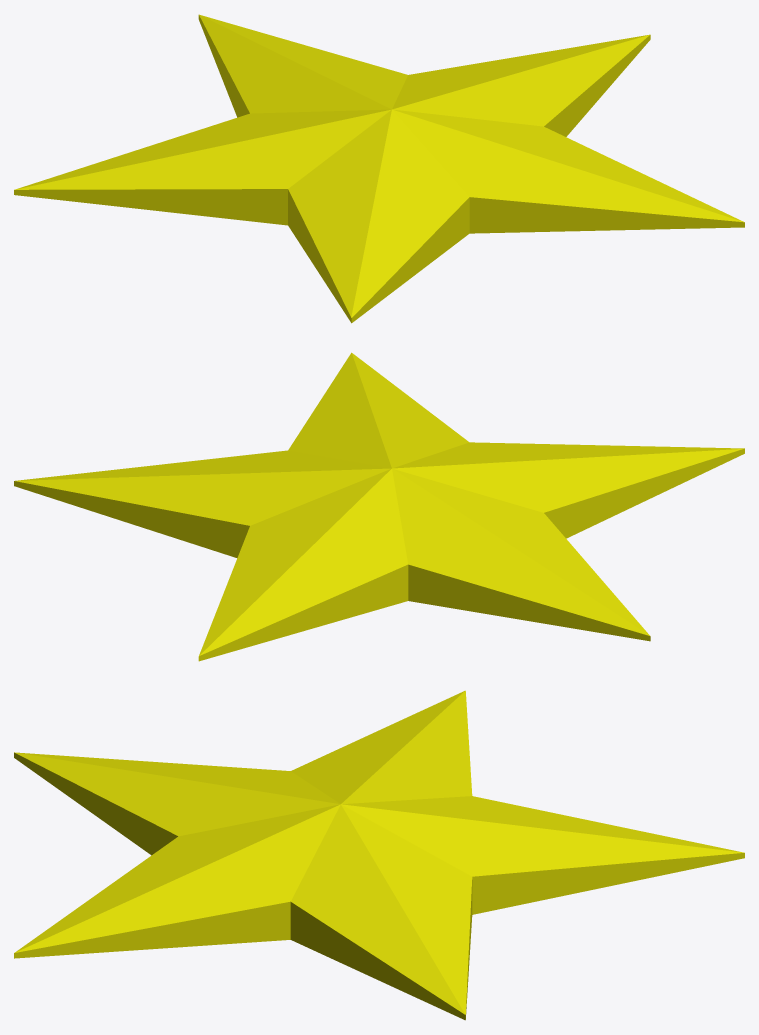
Rendered from Star.fbx.
3 views of the same model, one above another, from view 1: azimuth 30°, elevation 25°; view 2: azimuth 150°, elevation 25°; view 3: azimuth 270°, elevation 25° (orthographic). The views are drawn at different scales.
Visible parts, largest first — view 1: 円; view 2: 円; view 3: 円.
Part boxes in pixels (left/top/right/bottom): 円: left=14, top=14, right=744, bottom=323; 円: left=14, top=352, right=744, bottom=661; 円: left=14, top=690, right=744, bottom=1020.
Bounding box in the file's own units: 1.9 × 0.2797 × 1.81.
